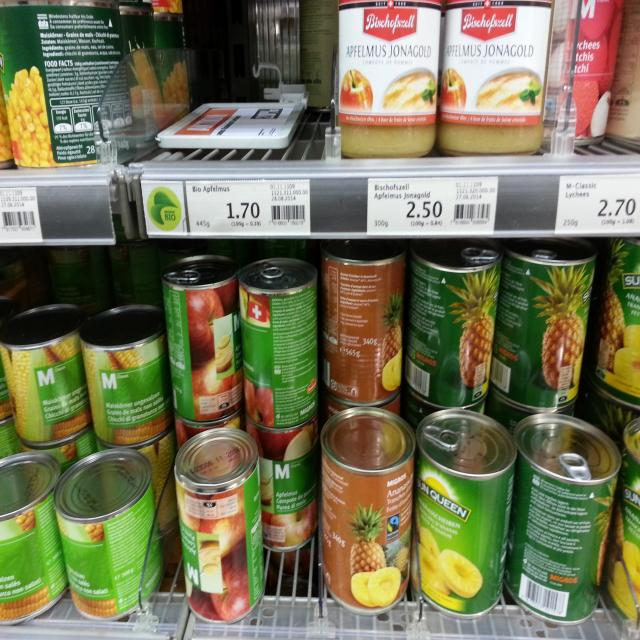Canned: (502, 413, 620, 632), (408, 400, 519, 622), (319, 398, 413, 627), (0, 0, 127, 169), (168, 429, 273, 630), (51, 448, 162, 622), (436, 0, 554, 160), (492, 240, 593, 416), (409, 237, 507, 415), (341, 0, 446, 157), (156, 251, 241, 420), (239, 257, 321, 430), (320, 246, 407, 409), (0, 305, 91, 451), (0, 441, 69, 633), (80, 301, 170, 443)
